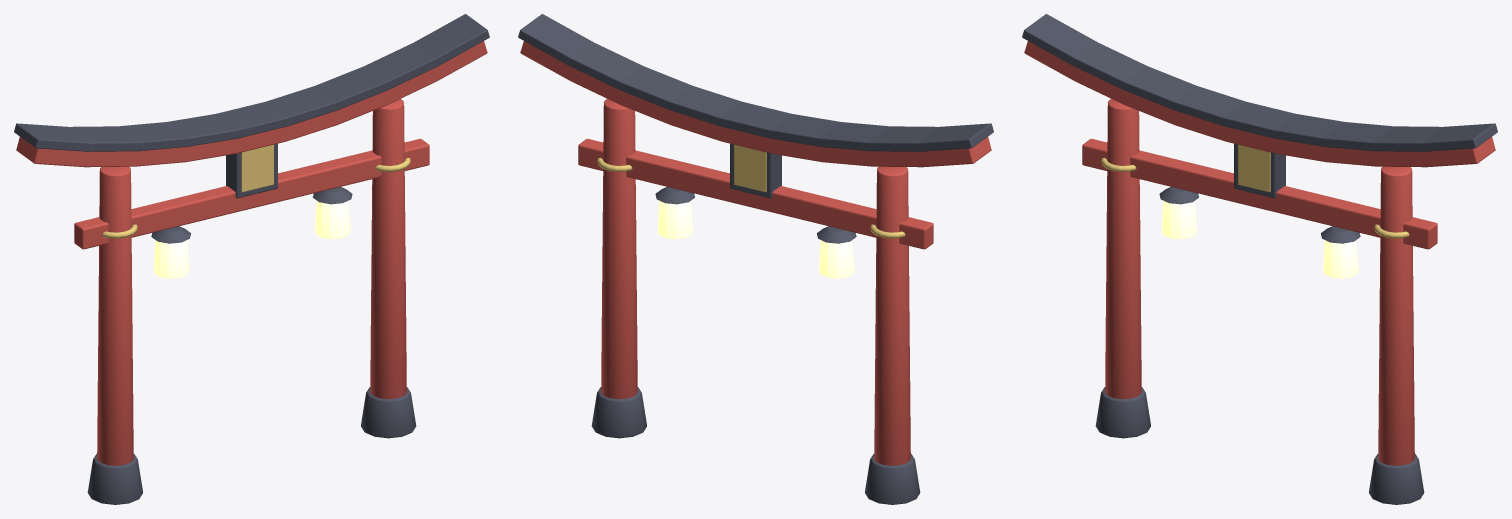
The model's file is torii_sky_gate.glb.
3 views of the same model, side by side, from view 1: azimuth 30°, elevation 25°; view 2: azimuth 150°, elevation 25°; view 3: azimuth 330°, elevation 25° (orthographic).
Visible parts, largest first — view 1: KasagiRed0, Base-4.4, Lantern-2.6, Collar-4.4; view 2: KasagiRed0, Base-4.4, Lantern-2.6, Collar-4.4; view 3: KasagiRed0, Base-4.4, Lantern-2.6, Collar-4.4.
Part boxes in pixels (bbox=[...]): KasagiRed0: bbox=[16, 41, 487, 465]; Base-4.4: bbox=[14, 14, 489, 504]; Lantern-2.6: bbox=[153, 201, 350, 278]; Collar-4.4: bbox=[102, 144, 410, 238]; KasagiRed0: bbox=[520, 41, 991, 465]; Base-4.4: bbox=[518, 14, 993, 504]; Lantern-2.6: bbox=[657, 201, 854, 278]; Collar-4.4: bbox=[597, 144, 905, 238]; KasagiRed0: bbox=[1024, 41, 1495, 465]; Base-4.4: bbox=[1022, 14, 1497, 504]; Lantern-2.6: bbox=[1161, 201, 1358, 278]; Collar-4.4: bbox=[1101, 144, 1409, 238].
Size of the model in its own units: 14.64 by 11.82 by 1.55.
